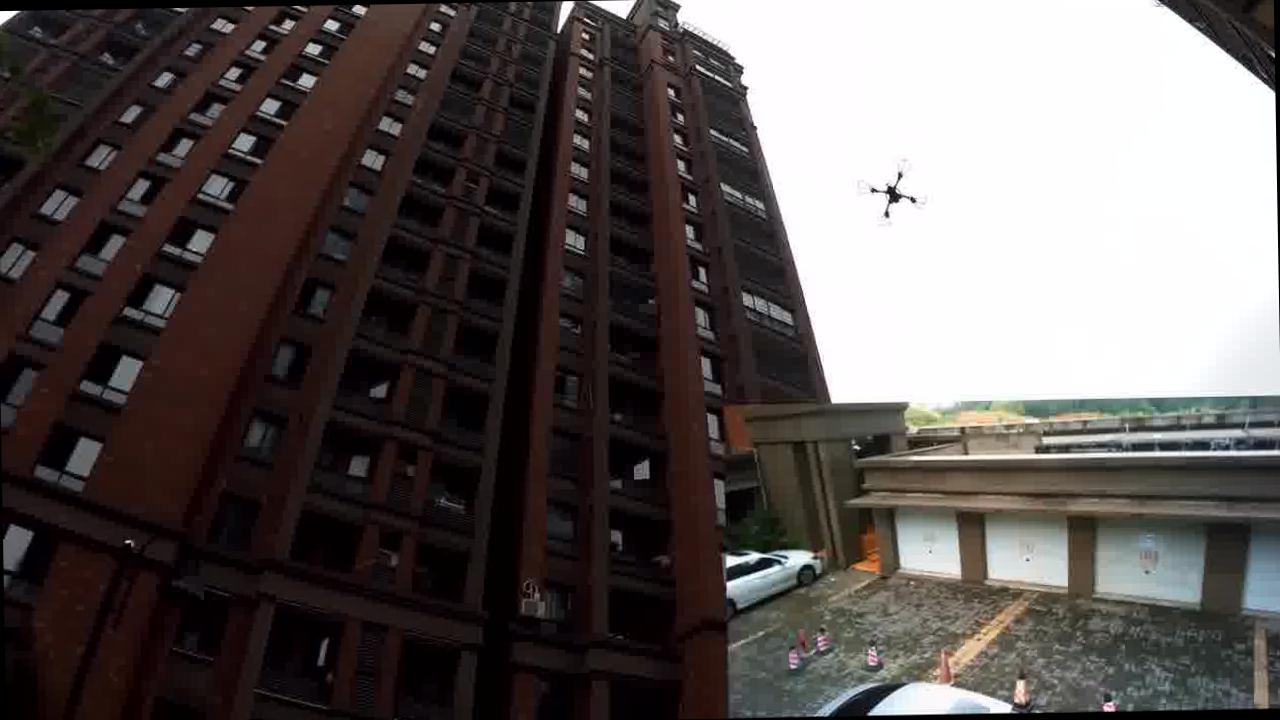drone: (856, 156, 926, 221)
